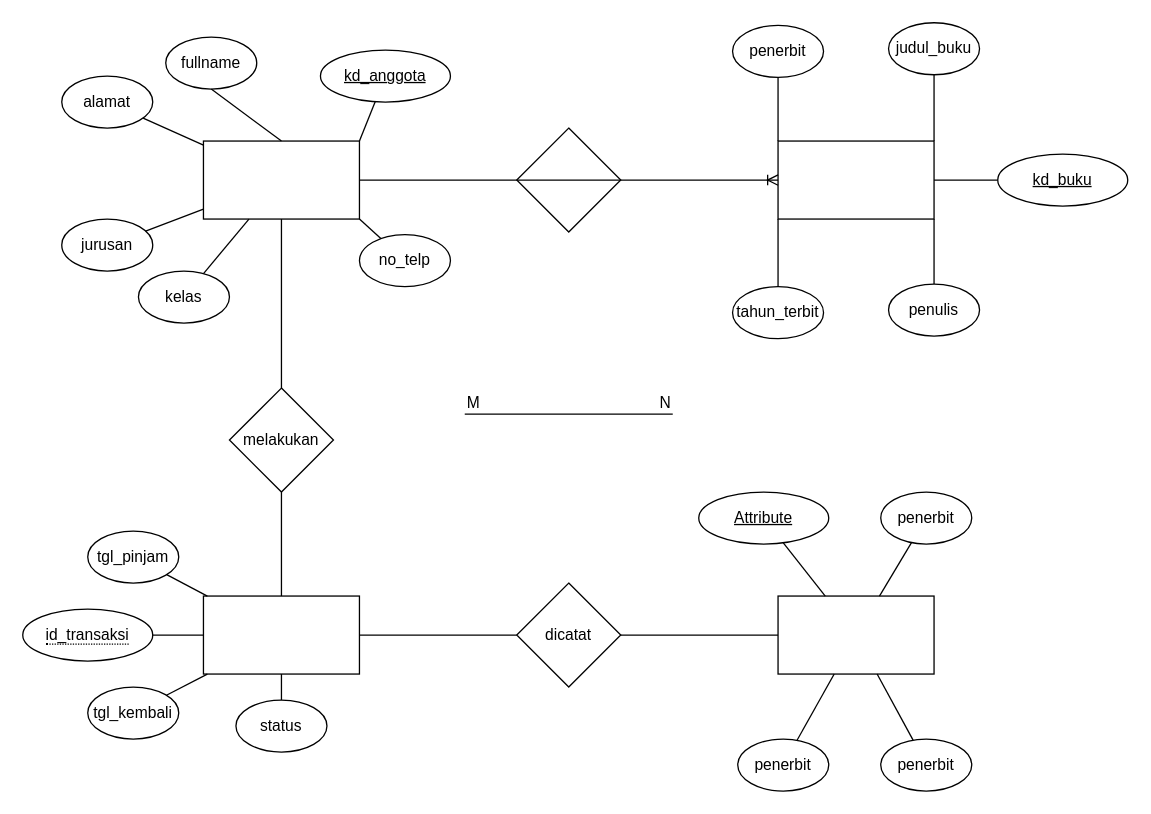
Image size: 1151x814. Some labels were removed from this diagram. The centre of each missing label's shape, as x and y in pixels:
anggota: [280,179]
buku: [855,179]
meminjam: [568,179]
petugas: [855,634]
transaksi: [280,634]
